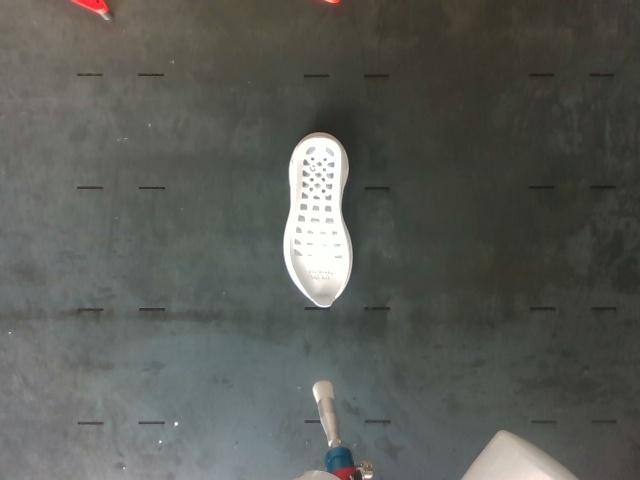shoes: (288, 137, 350, 307)
